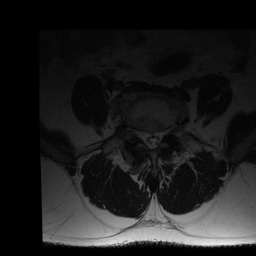CCS_normal: (149, 124, 155, 155)
LFS_stenosis: (162, 121, 168, 141)
LLS_normal: (155, 124, 162, 153)
RFS_normal: (135, 123, 142, 145)
RLS_normal: (142, 124, 149, 151)
